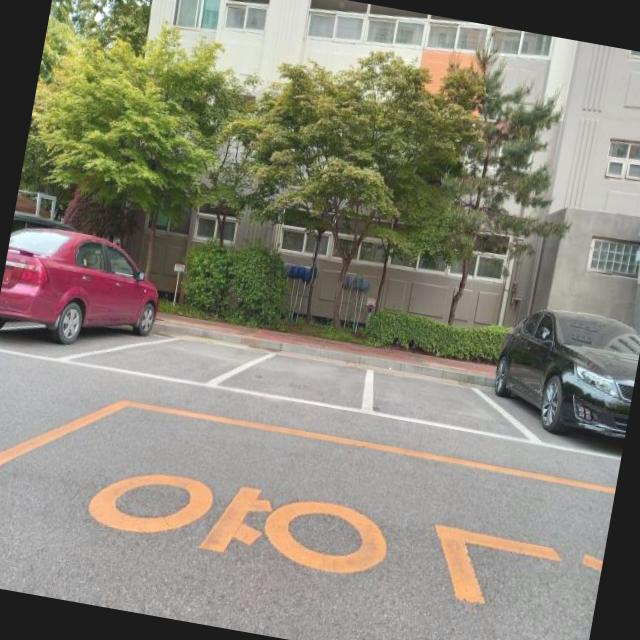car: (0, 215, 166, 363), (484, 297, 640, 452), (627, 50, 640, 63)
free: (74, 314, 272, 396), (357, 362, 540, 441), (210, 336, 374, 412)
